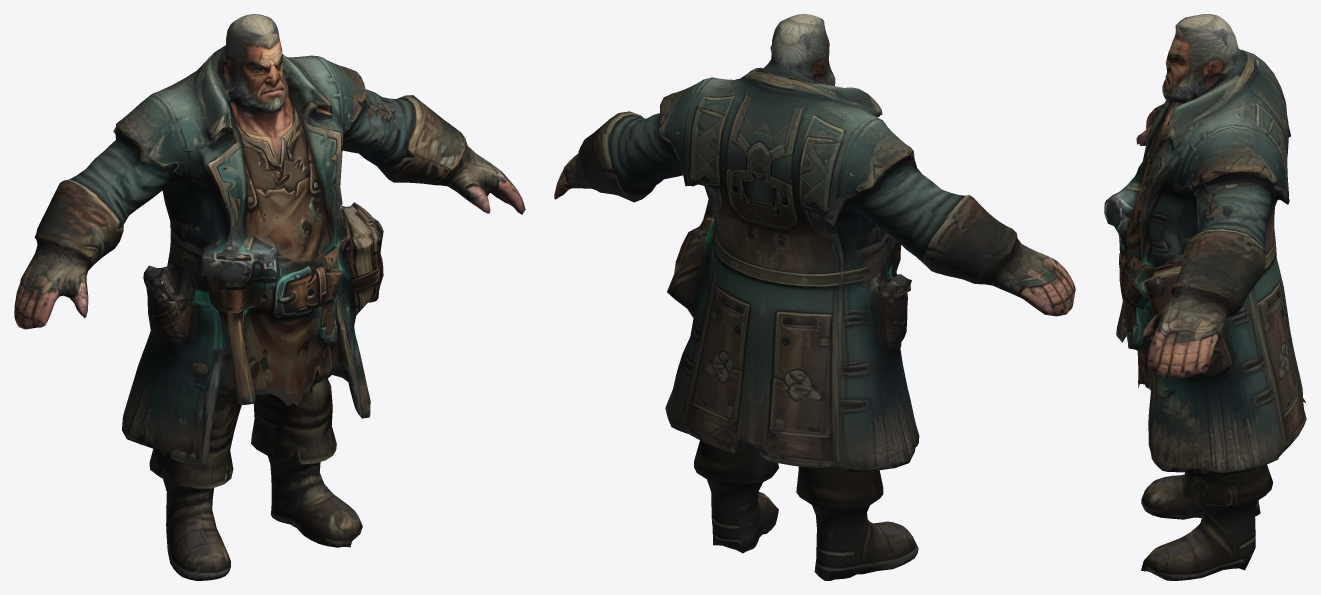
Rendered from Blackwood.glb.
3 renders of one model, left to right at view 1: azimuth 30°, elevation 25°; view 2: azimuth 150°, elevation 25°; view 3: azimuth 270°, elevation 25°, orthographic.
Visible parts, largest first — view 1: tmpnnjgr0h8; view 2: tmpnnjgr0h8; view 3: tmpnnjgr0h8.
Boxes of the visible parts, box(x1,y1,x2,y2) form: tmpnnjgr0h8: box(14, 14, 525, 580); tmpnnjgr0h8: box(554, 14, 1075, 580); tmpnnjgr0h8: box(1104, 14, 1306, 580).
Size of the model in its own units: 1.8 by 1.8 by 0.6301.
Materials: 1 (1 with a texture image).
